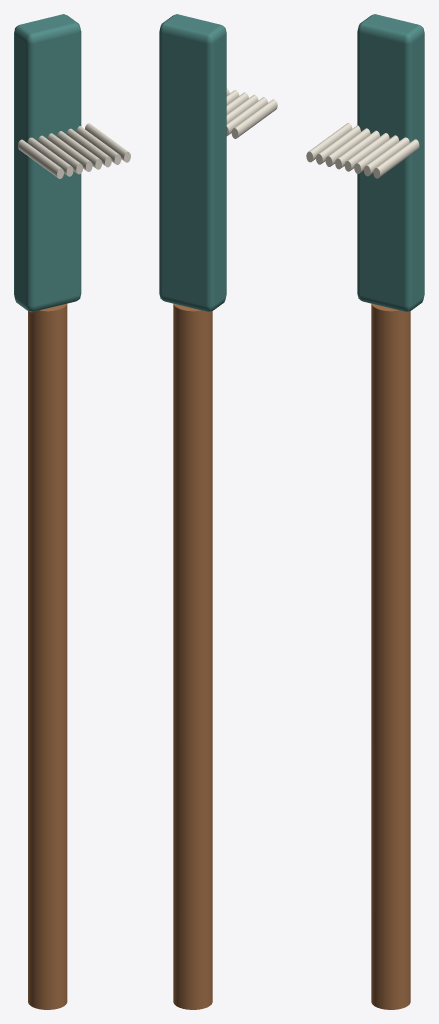
The model's file is wp-brosse-a-dents.glb.
3 views of the same model, side by side, from view 1: azimuth 30°, elevation 25°; view 2: azimuth 150°, elevation 25°; view 3: azimuth 330°, elevation 25° (orthographic).
Visible parts, largest first — view 1: wp-brosse-a-dents; view 2: wp-brosse-a-dents; view 3: wp-brosse-a-dents.
Boxes of the visible parts, x1=… form: wp-brosse-a-dents: x1=14, y1=14, x2=130, y2=1009; wp-brosse-a-dents: x1=159, y1=14, x2=277, y2=1009; wp-brosse-a-dents: x1=306, y1=14, x2=424, y2=1009.
Size of the model in its own units: 0.015 by 0.19 by 0.02.
